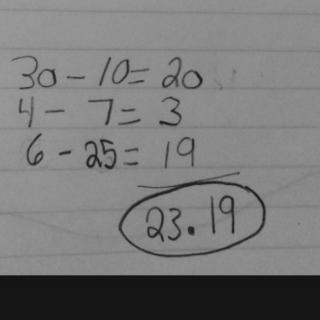.: (181, 220, 200, 239)
0: (113, 59, 132, 85), (38, 66, 58, 90), (181, 70, 203, 90)
1: (205, 195, 221, 233), (100, 52, 114, 88), (160, 137, 173, 168)
2: (144, 205, 166, 241), (159, 55, 182, 88), (84, 138, 103, 169)
3: (12, 54, 38, 91), (160, 97, 181, 126), (167, 206, 182, 241)
4: (18, 94, 37, 127)
5: (102, 140, 117, 169)
6: (28, 132, 46, 162)
7: (86, 96, 113, 125)
9: (218, 196, 237, 234), (176, 136, 196, 165)
